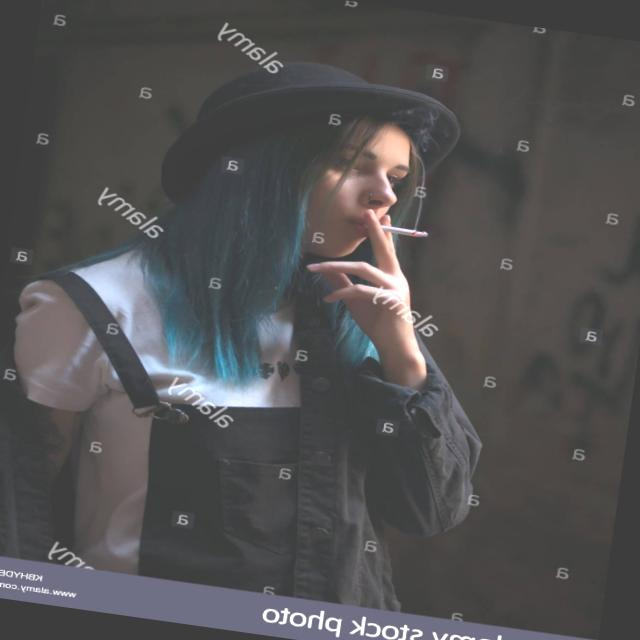cigarette: (367, 206, 442, 249)
